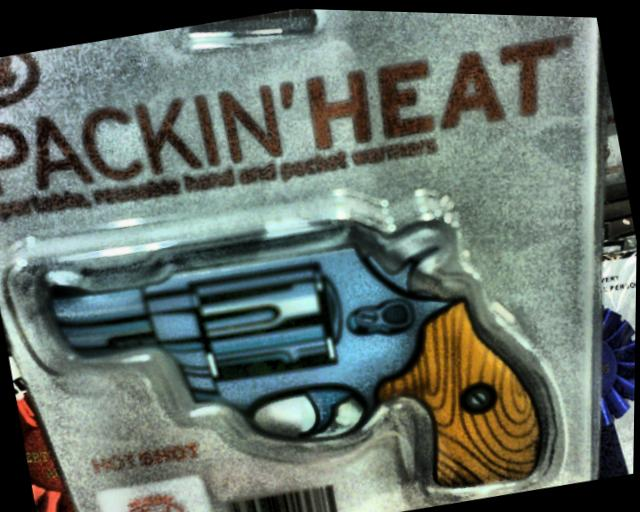pistol: (31, 180, 554, 512)
